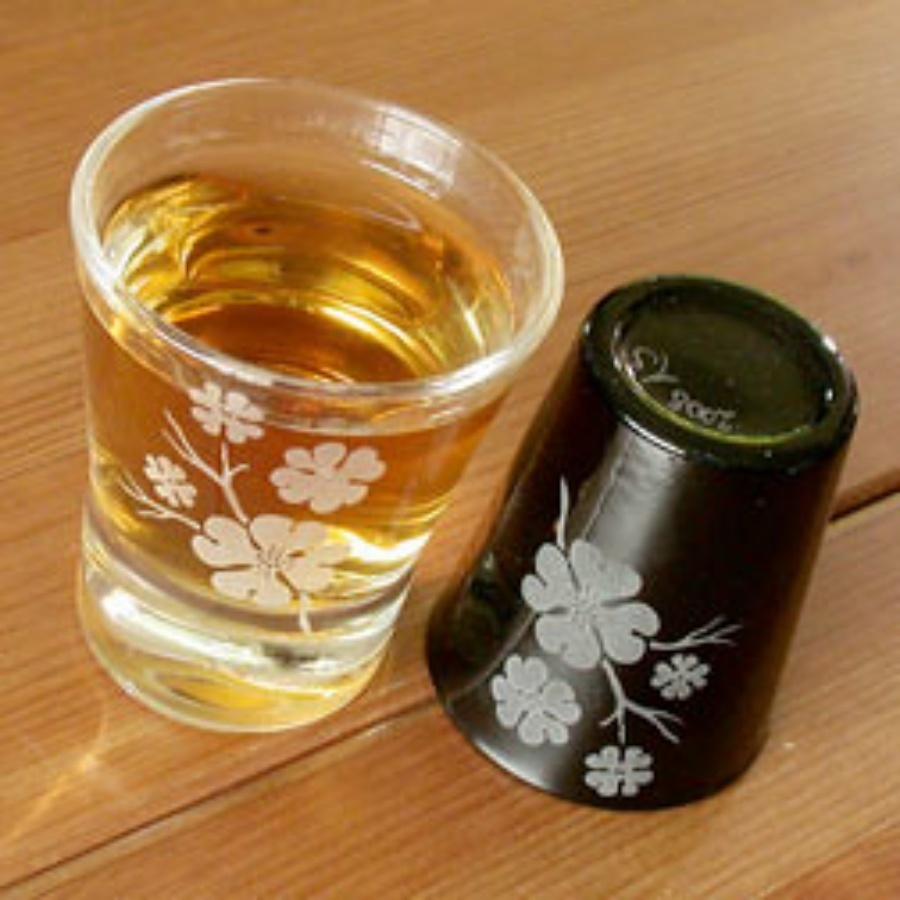whiskey: (70, 72, 560, 751)
